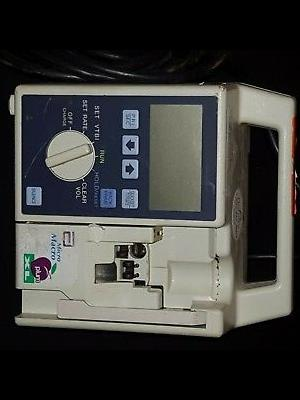plumxl1: (5, 57, 295, 343)
